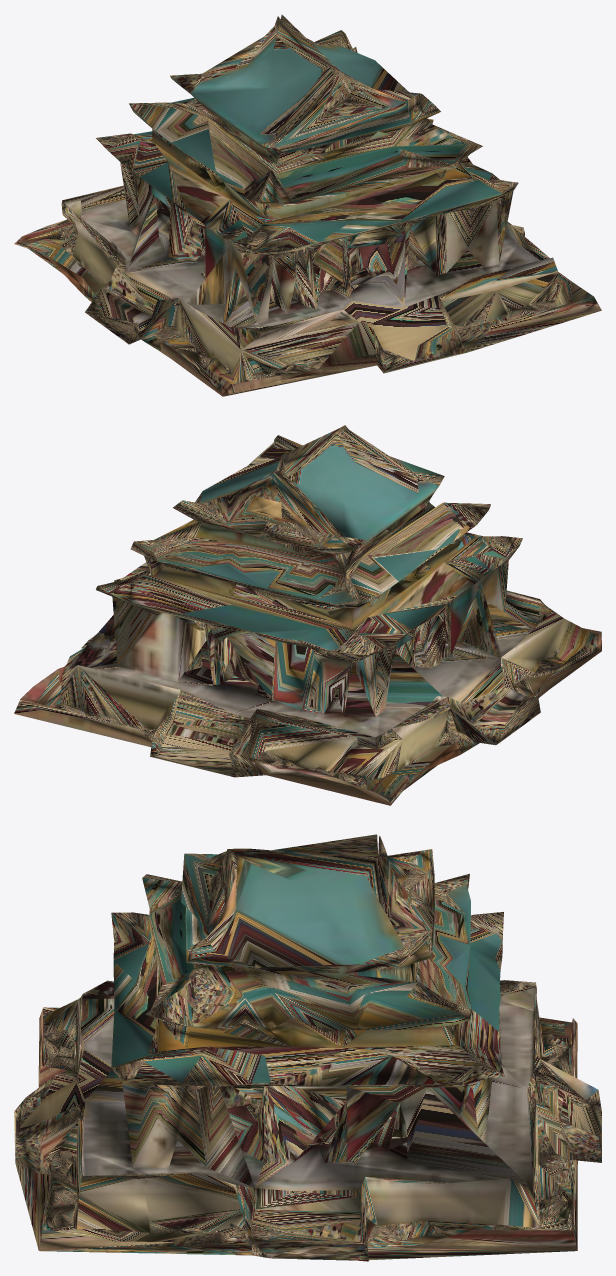
File: bq_thunder_hall.far.glb
3 renders of one model, top to bottom at view 1: azimuth 30°, elevation 25°; view 2: azimuth 150°, elevation 25°; view 3: azimuth 270°, elevation 25°, orthographic. The views are drawn at different scales.
Bounding box in the file's own units: 1.89 × 1.07 × 1.89.
Materials: 1 (1 with a texture image).
